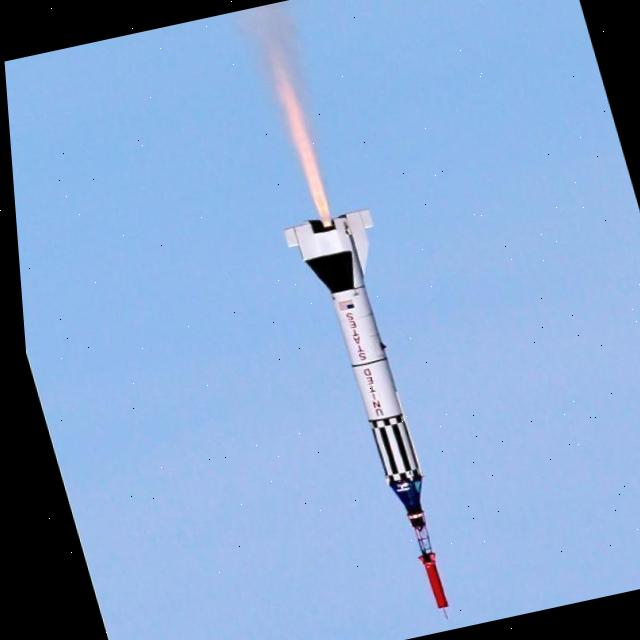missile: (275, 204, 477, 634)
